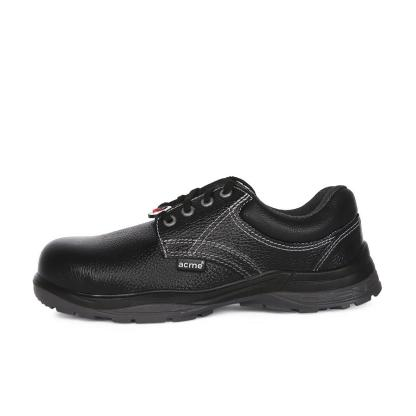bota: (28, 171, 388, 329)
